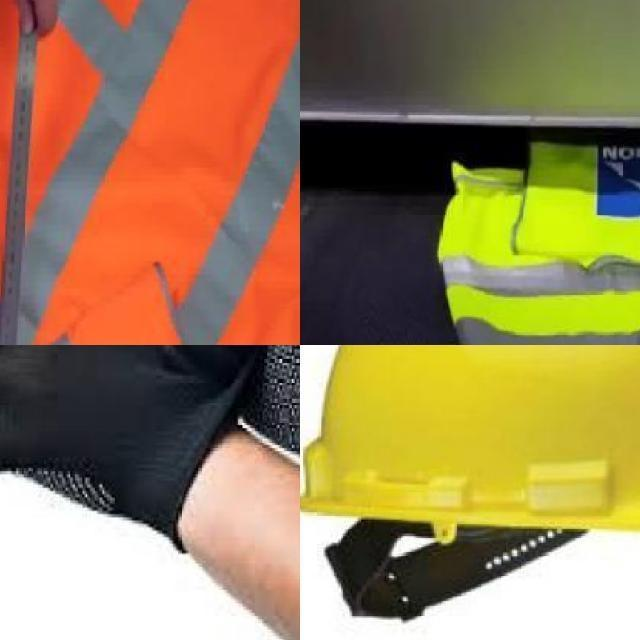apron: (0, 345, 212, 542), (201, 345, 300, 447)
